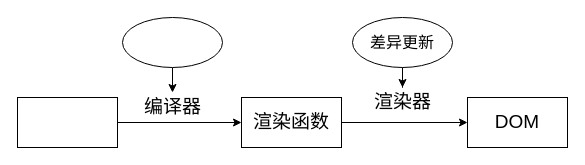
Image size: 585x165. Some labels were removed from this diagram. Here are the shapes that lost their labels. From the top down, the box of each, then its label:
(122, 16, 222, 68): 动态分析
(16, 96, 118, 148): 模板
